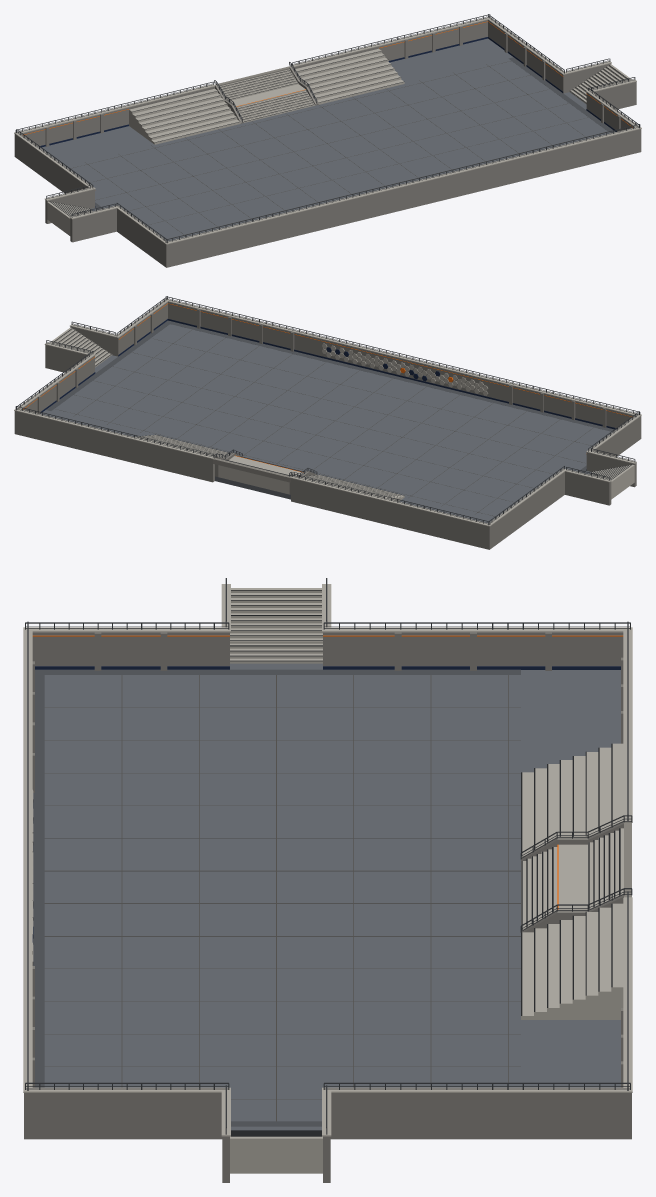
Rendered from HEX_City_02_PRACTICE_AREA.fbx.
3 renders of one model, top to bottom at view 1: azimuth 30°, elevation 25°; view 2: azimuth 150°, elevation 25°; view 3: azimuth 270°, elevation 25°, orthographic. The views are drawn at different scales.
Parts seen in each view (by area): view 1: Practice_Floor, Practice_RetainingWalls, Practice_SeatingTerraces, Practice_Railings, Practice_Floor_Joints, Stair_Grand_North, Practice_WallAccents, Stair_East, Stair_West, Stair_Grand_CheekWalls; view 2: Practice_Floor, Practice_RetainingWalls, Practice_Floor_Joints, Practice_Railings, Practice_WallAccents, Stair_Grand_North, Practice_HexFeatureWall, Practice_SeatingTerraces, Stair_East, Stair_West; view 3: Practice_Floor, Practice_RetainingWalls, Practice_SeatingTerraces, Practice_Floor_Joints, Practice_Railings, Stair_Grand_North, Stair_West, Practice_WallAccents, Stair_East, Stair_Grand_CheekWalls, Practice_Floor_TrenchLinks.
Boxes of the visible parts, <box> form: Practice_Floor: <box>40,38,609,241</box>; Practice_RetainingWalls: <box>14,17,641,267</box>; Practice_SeatingTerraces: <box>129,48,404,144</box>; Practice_Railings: <box>15,14,640,243</box>; Practice_Floor_Joints: <box>69,57,615,239</box>; Stair_Grand_North: <box>214,66,315,122</box>; Practice_WallAccents: <box>23,21,632,229</box>; Stair_East: <box>569,64,631,104</box>; Stair_West: <box>47,201,92,235</box>; Stair_Grand_CheekWalls: <box>215,66,318,123</box>; Practice_Floor: <box>41,324,612,523</box>; Practice_RetainingWalls: <box>14,299,641,549</box>; Practice_Floor_Joints: <box>46,320,615,516</box>; Practice_Railings: <box>15,296,640,525</box>; Practice_WallAccents: <box>23,303,631,510</box>; Stair_Grand_North: <box>213,455,303,494</box>; Practice_HexFeatureWall: <box>322,343,487,395</box>; Practice_SeatingTerraces: <box>135,434,404,501</box>; Stair_East: <box>49,327,112,367</box>; Stair_West: <box>589,464,634,499</box>; Practice_Floor: <box>44,670,620,1121</box>; Practice_RetainingWalls: <box>23,584,632,1182</box>; Practice_SeatingTerraces: <box>521,743,623,1019</box>; Practice_Floor_Joints: <box>33,669,520,1126</box>; Practice_Railings: <box>25,578,632,1134</box>; Stair_Grand_North: <box>521,823,631,929</box>; Stair_West: <box>230,588,322,663</box>; Practice_WallAccents: <box>32,632,623,1087</box>; Stair_East: <box>230,1130,322,1173</box>; Stair_Grand_CheekWalls: <box>521,821,623,932</box>; Practice_Floor_TrenchLinks: <box>230,663,322,1130</box>.
Size of the model in its own units: 507 by 23.85 by 237.
1 material, 1 textured.
